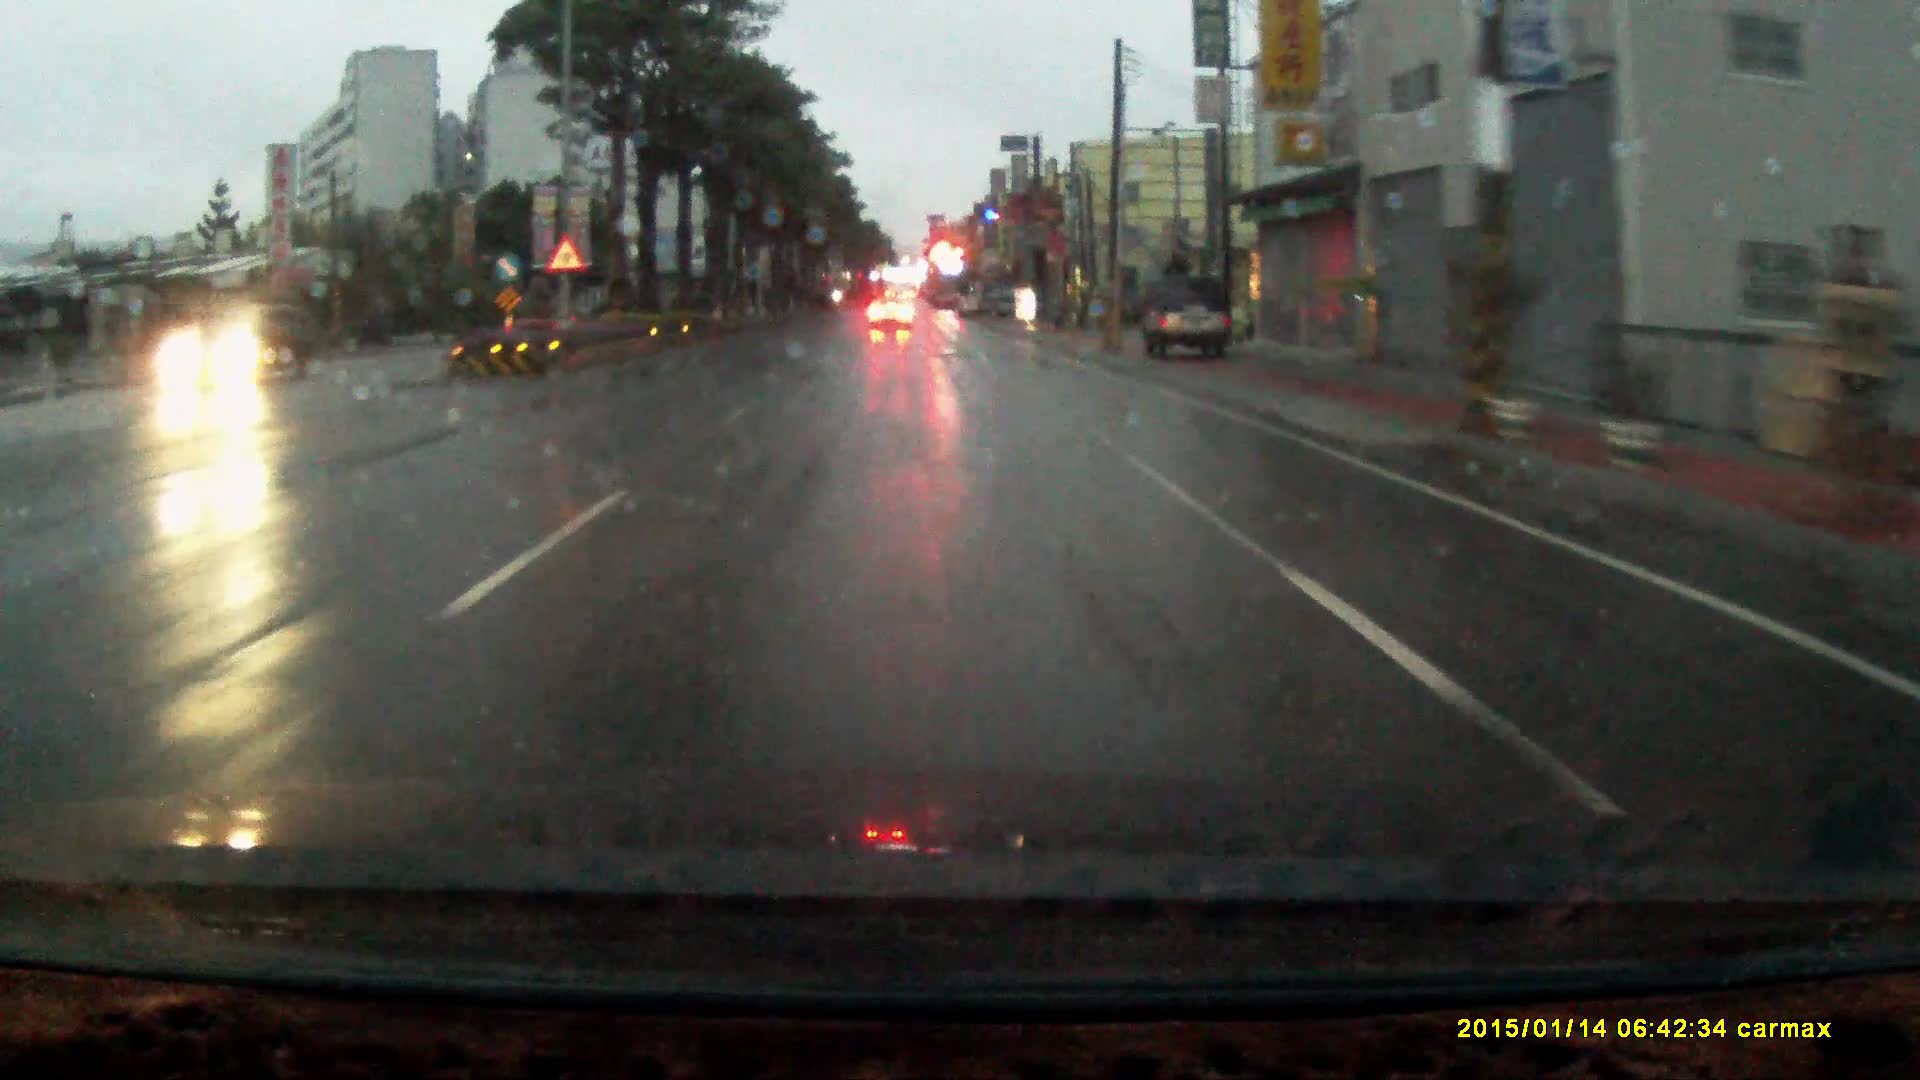vehicle: (152, 301, 326, 390), (1141, 272, 1238, 363), (870, 301, 914, 339)
